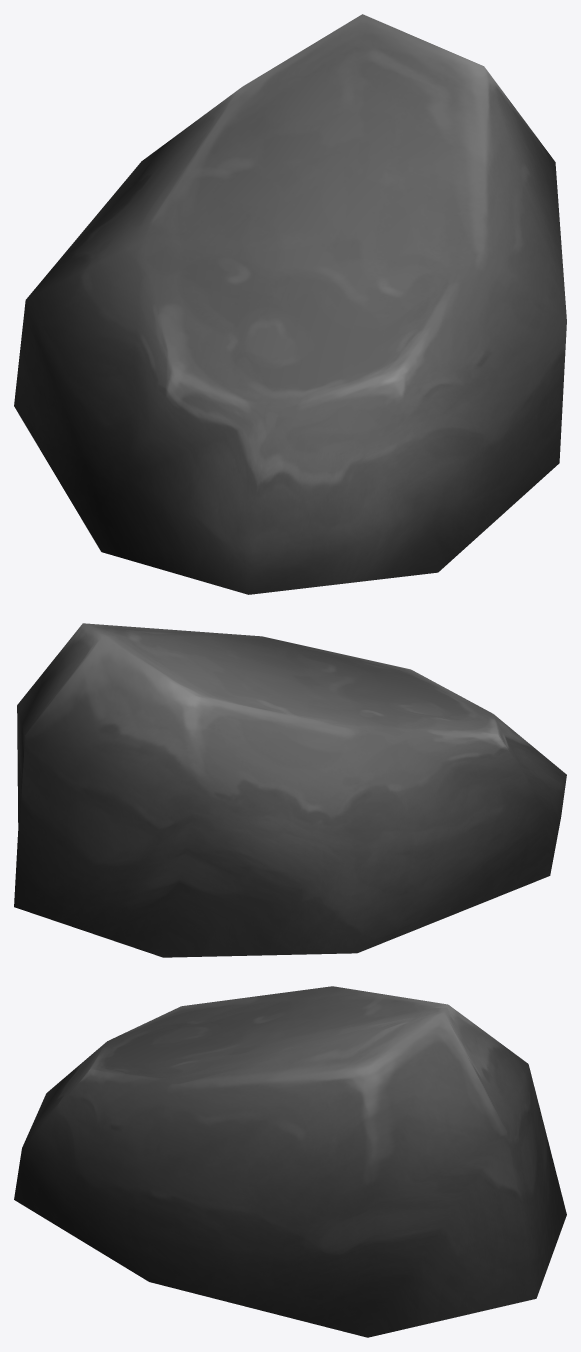
The model's file is M_Rock2.fbx.
The picture shows the model from 3 angles, top to bottom: view 1: azimuth 30°, elevation 25°; view 2: azimuth 150°, elevation 25°; view 3: azimuth 270°, elevation 25°; orthographic projection. The views are drawn at different scales.
Visible parts, largest first — view 1: M_Rock2; view 2: M_Rock2; view 3: M_Rock2.
Boxes of the visible parts, <box> form: M_Rock2: <box>14,14,566,594</box>; M_Rock2: <box>14,623,566,957</box>; M_Rock2: <box>14,986,566,1337</box>.
Size of the model in its own units: 0.9569 by 0.5103 by 0.9776.
